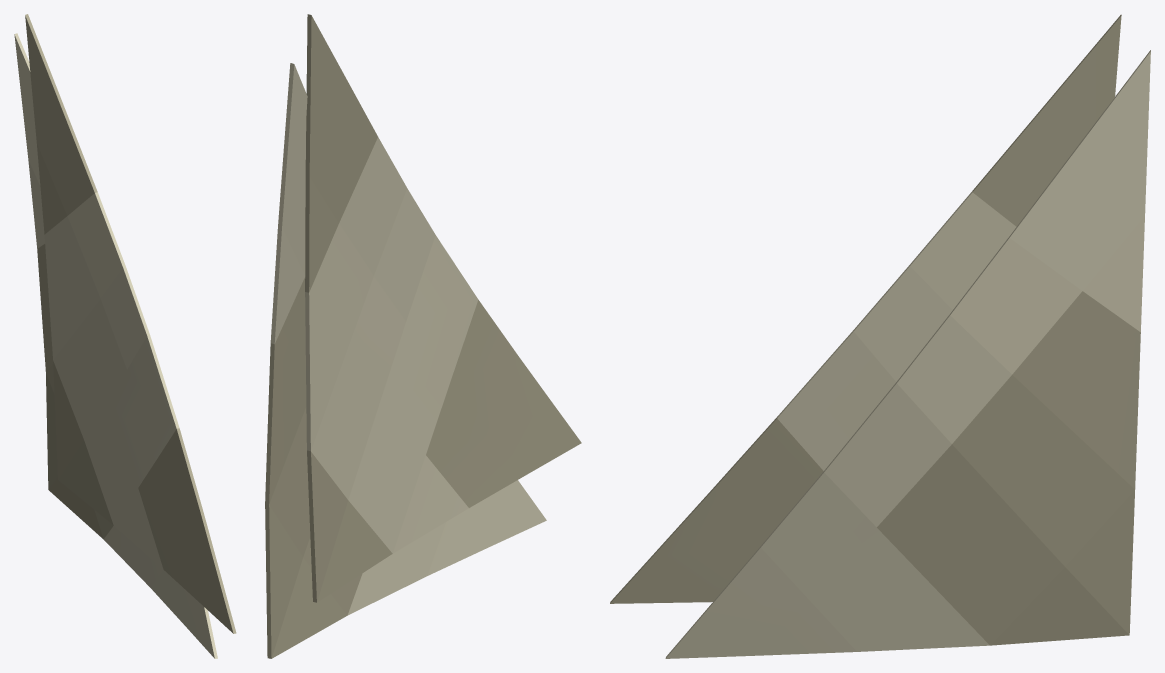
File: MediumShip_1_Sails1.fbx
3 renders of one model, left to right at view 1: azimuth 30°, elevation 25°; view 2: azimuth 150°, elevation 25°; view 3: azimuth 270°, elevation 25°, orthographic. The views are drawn at different scales.
Parts seen in each view (by area): view 1: MediumShip_1_Sails1; view 2: MediumShip_1_Sails1; view 3: MediumShip_1_Sails1.
Part boxes in pixels (box(x1,y1,x2,y2)): MediumShip_1_Sails1: box(14, 14, 236, 658); MediumShip_1_Sails1: box(265, 14, 581, 658); MediumShip_1_Sails1: box(610, 14, 1150, 658).
Bounding box in the file's own units: 75.5 × 1164 × 893.
